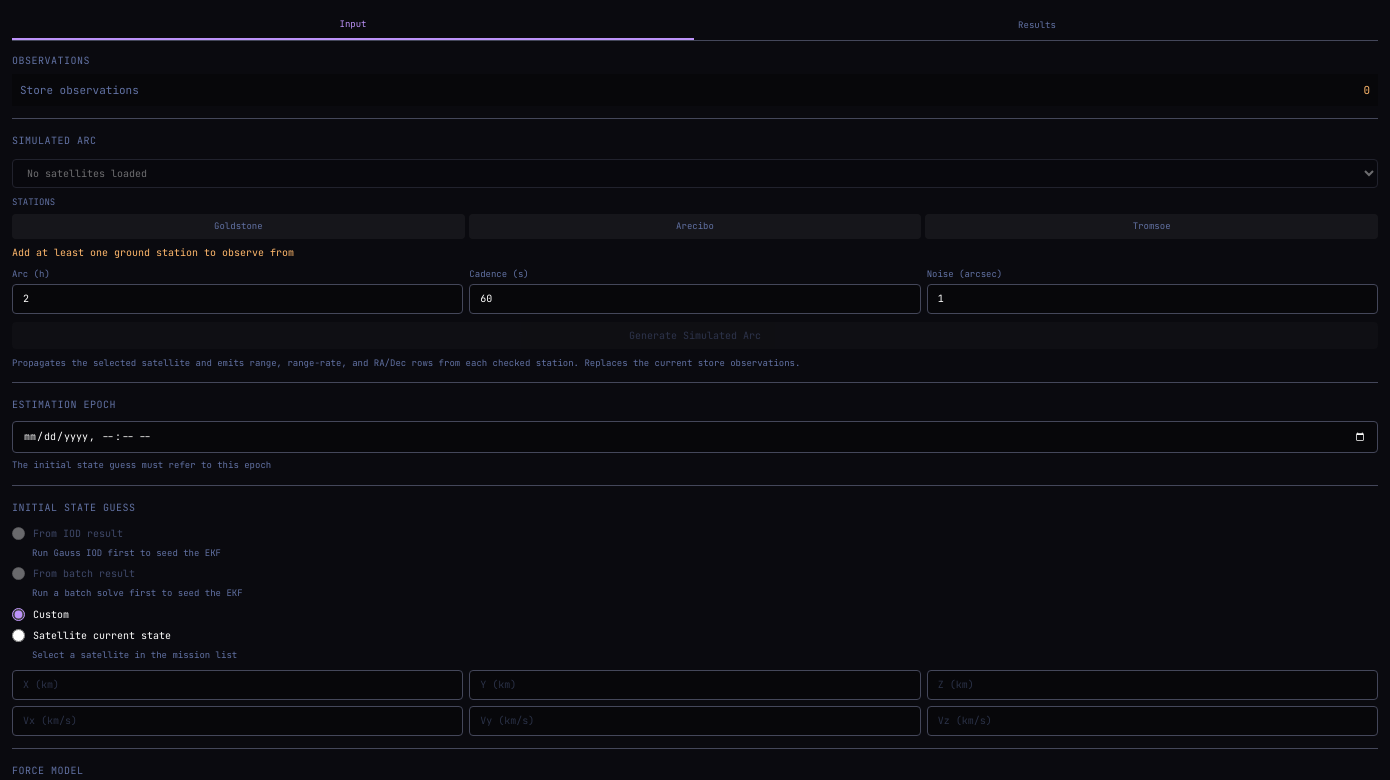
Scenario: EkfPanel › shows the empty Results state before any solve
The image size is (1390, 780).
Click the button "Results" at (1037, 26), box [696,12,1378,40]
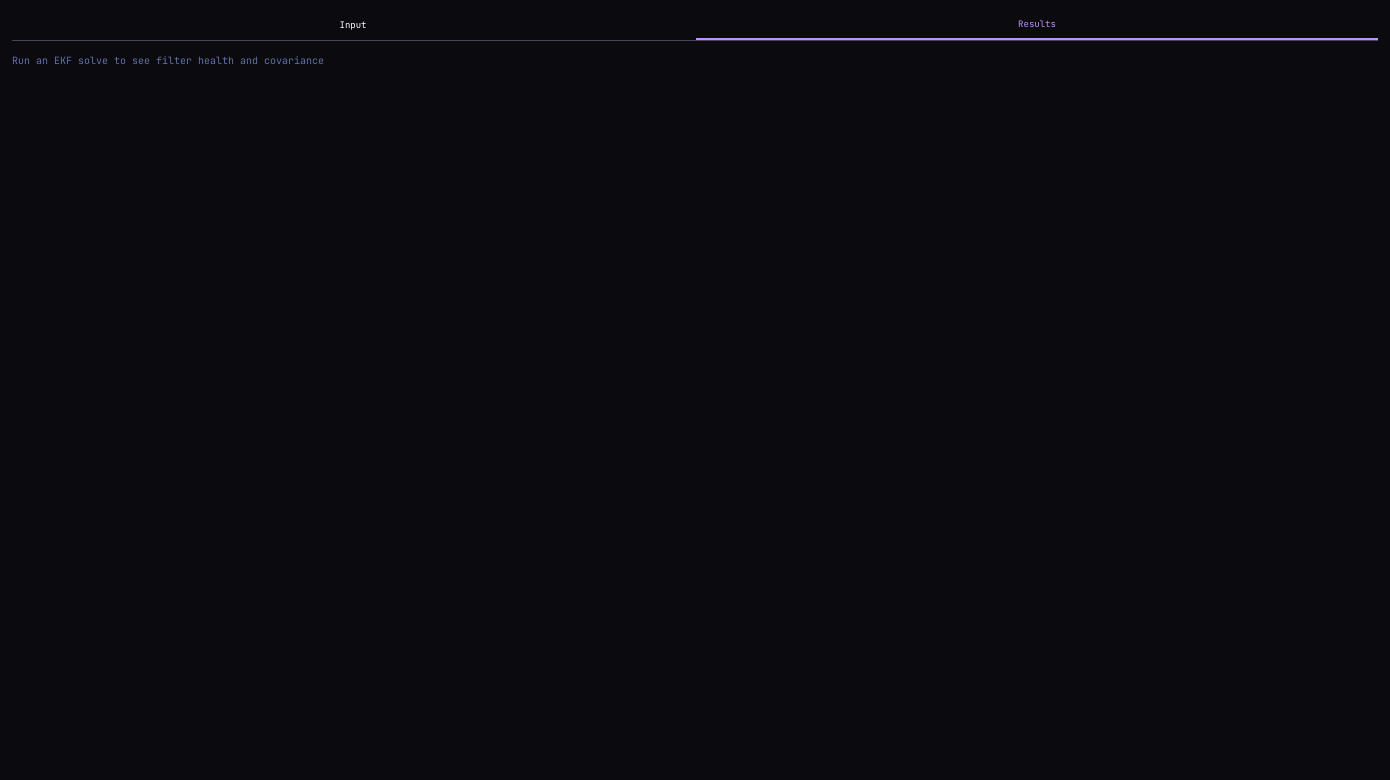
Check: the text "Run an EKF solve to see filter health and covariance" is shown, box [12,54,324,66]
